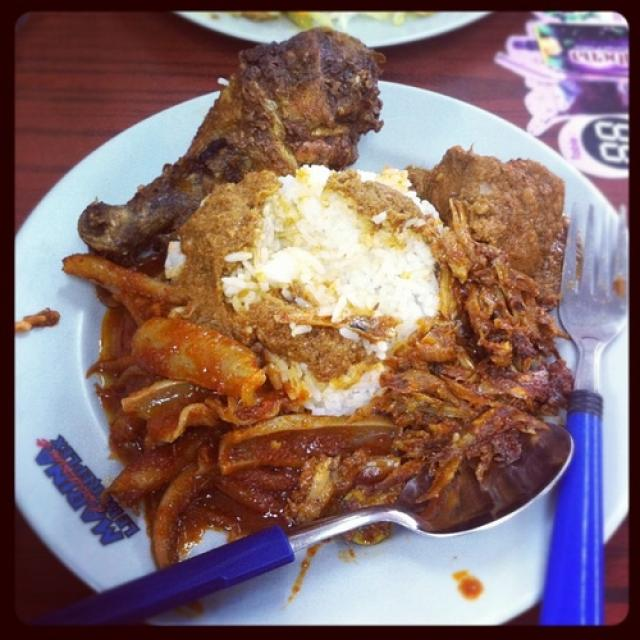米饭主食: (22, 12, 616, 610)
